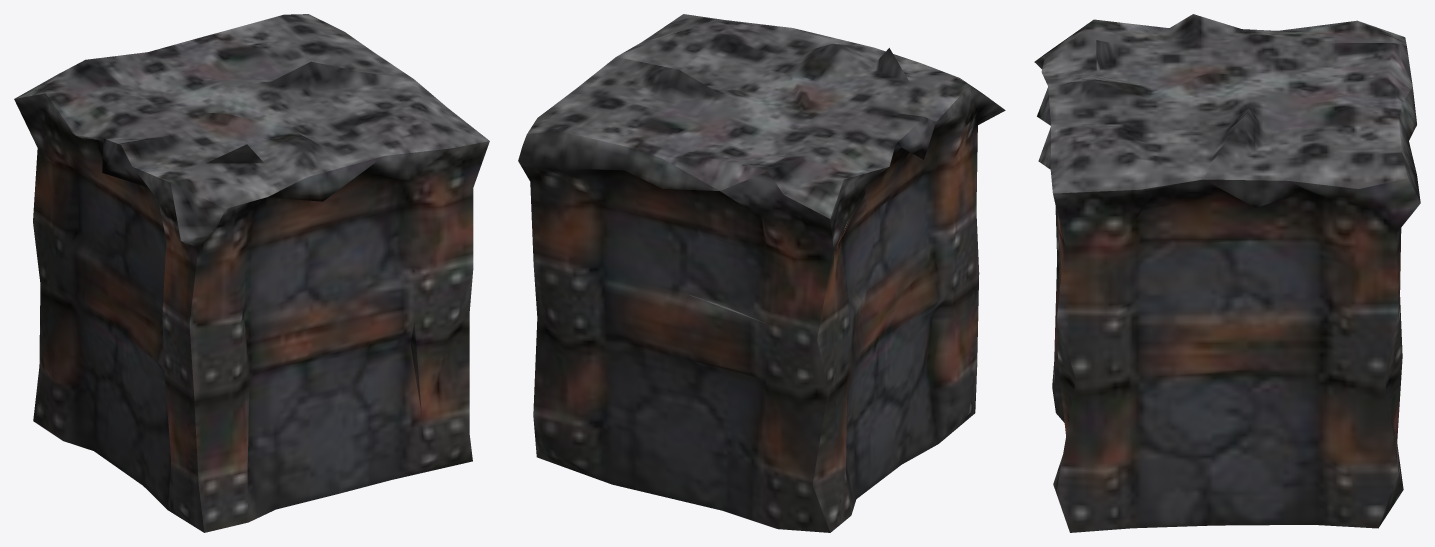
The model's file is b_braises_mur_3.glb.
3 renders of one model, left to right at view 1: azimuth 30°, elevation 25°; view 2: azimuth 150°, elevation 25°; view 3: azimuth 270°, elevation 25°, orthographic. The views are drawn at different scales.
Parts seen in each view (by area): view 1: geometry_0; view 2: geometry_0; view 3: geometry_0.
Boxes of the visible parts, left/top/right/bottom form: geometry_0: left=14, top=14, right=489, bottom=532; geometry_0: left=518, top=14, right=1005, bottom=532; geometry_0: left=1034, top=14, right=1420, bottom=532.
Bounding box in the file's own units: 1 × 1.1 × 1.
1 material, 1 textured.
